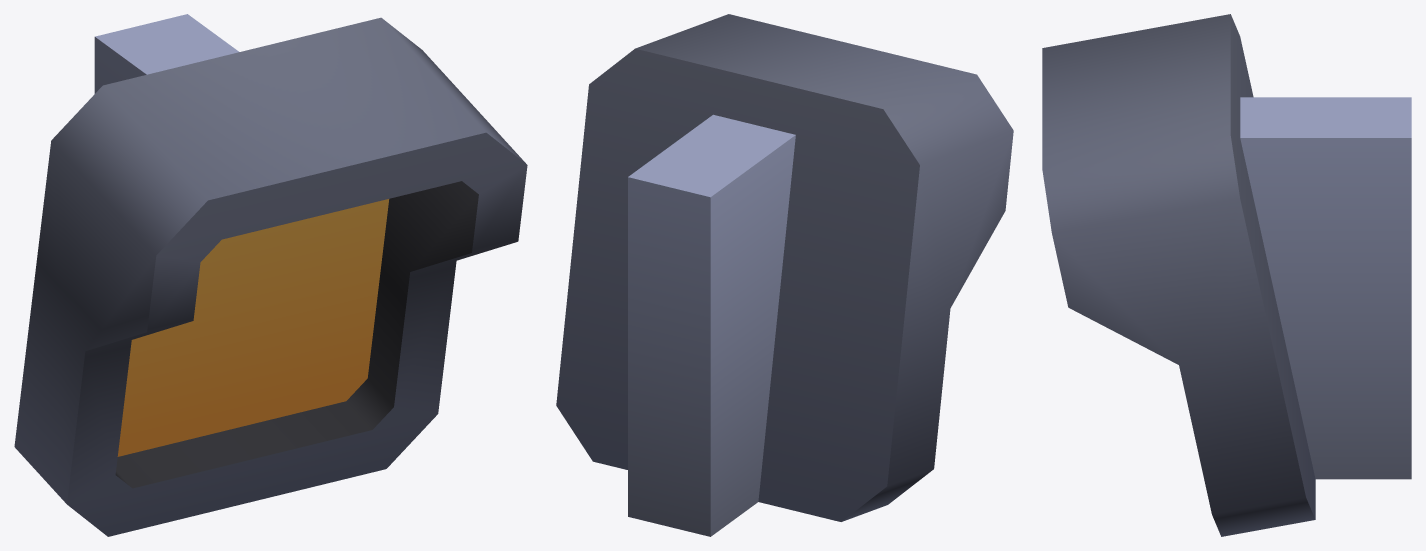
Rendered from display-wall.glb.
3 views of the same model, side by side, from view 1: azimuth 30°, elevation 25°; view 2: azimuth 150°, elevation 25°; view 3: azimuth 270°, elevation 25° (orthographic). The views are drawn at different scales.
Parts seen in each view (by area): view 1: display-wall; view 2: display-wall; view 3: display-wall.
Part boxes in pixels (x1,y1,x2,y2): display-wall: (14,14,527,536); display-wall: (556,14,1013,536); display-wall: (1042,14,1411,536).
Size of the model in its own units: 0.4 by 0.4609 by 0.3844.
